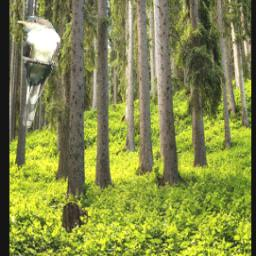Cuckoo: (15, 16, 60, 129)
